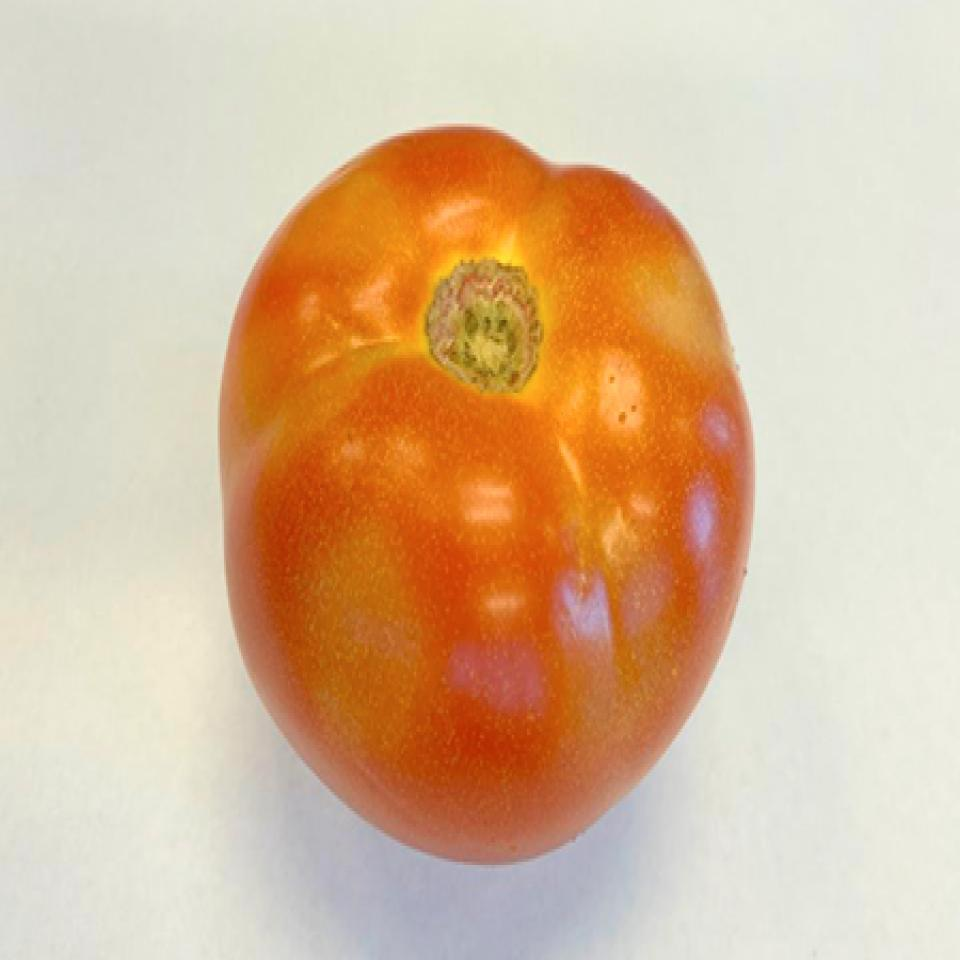Spotted wilt Virus: (218, 127, 751, 865)
